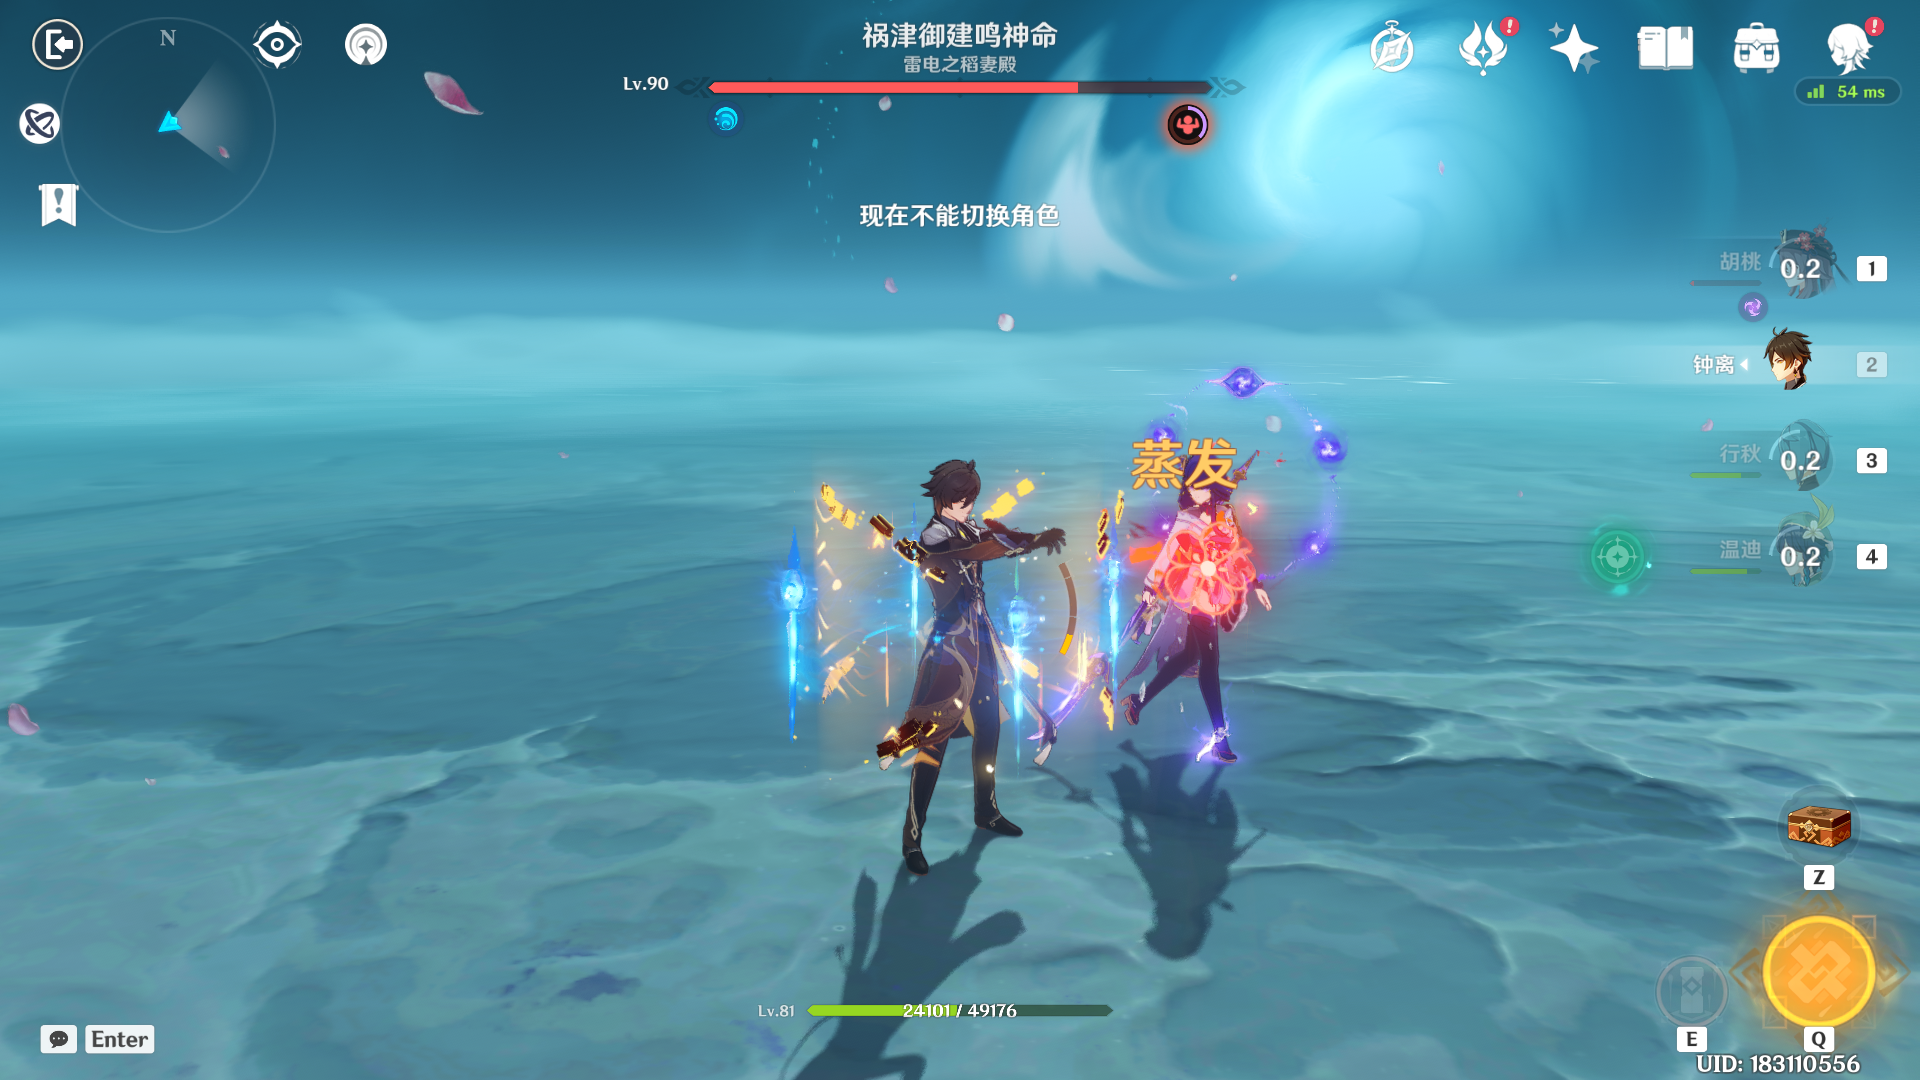character: (785, 396, 1079, 952), (1043, 389, 1340, 835)
